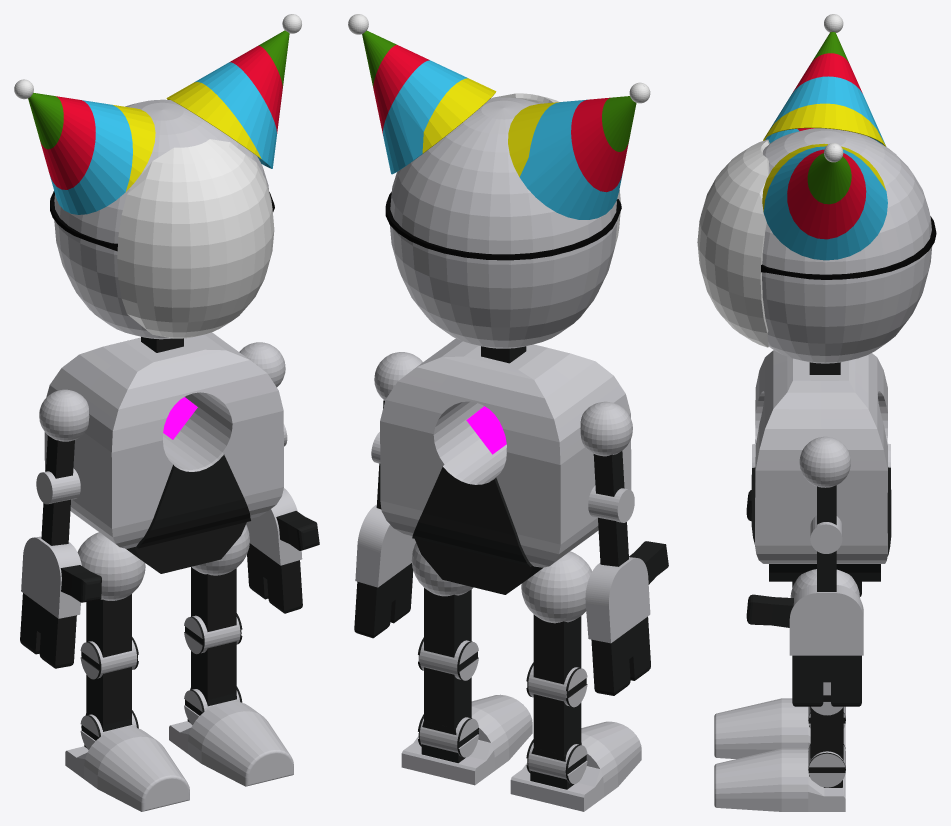
File: Robot.fbx
The picture shows the model from 3 angles, left to right: view 1: azimuth 30°, elevation 25°; view 2: azimuth 150°, elevation 25°; view 3: azimuth 270°, elevation 25°; orthographic projection. The views are drawn at different scales.
Visible parts, largest first — view 1: Body, Head, Mask, Core; view 2: Body, Head, Mask, Core; view 3: Body, Head, Mask.
Part boxes in pixels (x1,y1,x2,y2): Body: (20, 332, 319, 811); Head: (14, 14, 301, 339); Mask: (50, 139, 274, 338); Core: (163, 397, 197, 439); Body: (354, 338, 668, 811); Head: (348, 14, 650, 348); Mask: (385, 93, 621, 260); Core: (466, 406, 506, 454); Body: (714, 350, 891, 811); Head: (762, 14, 932, 363); Mask: (697, 139, 936, 347).
Bounding box in the file's own units: 274 × 647 × 202.
